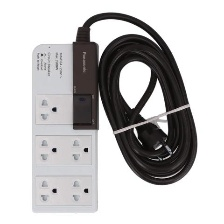three_eye_plug: (28, 40, 101, 215)
